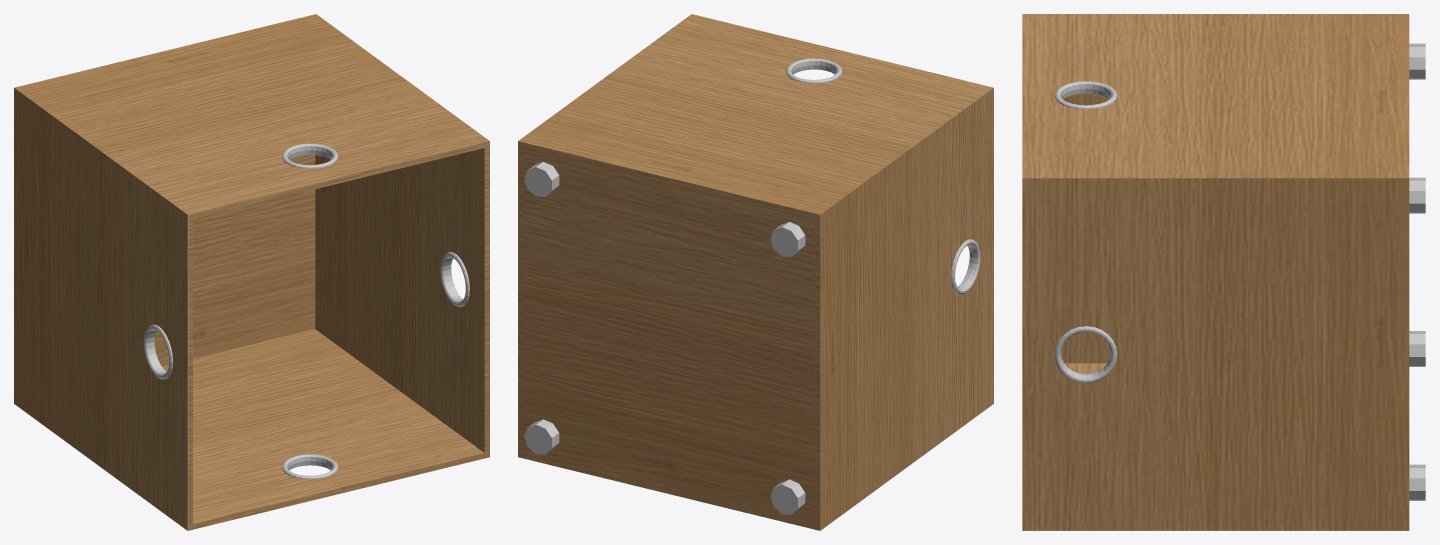
The model's file is openbox.dae.
3 views of the same model, side by side, from view 1: azimuth 30°, elevation 25°; view 2: azimuth 150°, elevation 25°; view 3: azimuth 270°, elevation 25° (orthographic). The views are drawn at different scales.
Visible parts, largest first — view 1: node; view 2: node; view 3: node.
Boxes of the visible parts, x1,y1,x2,y2 form: node: [14, 14, 489, 530]; node: [518, 14, 993, 530]; node: [1022, 14, 1425, 530].
Bounding box in the file's own units: 56.07 × 56.12 × 57.35.
